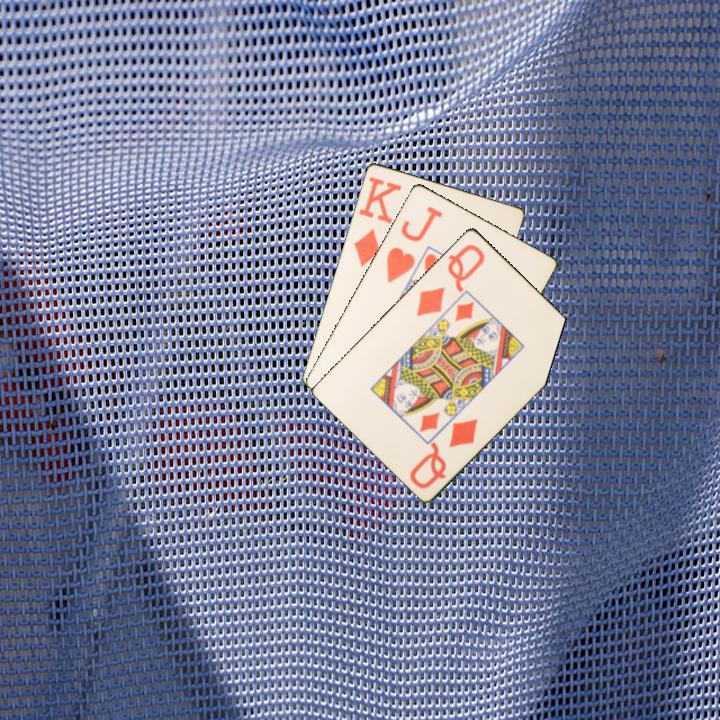Jh: (382, 202, 445, 286)
Kd: (350, 172, 404, 269)
Qd: (413, 240, 488, 319), (406, 414, 481, 492)
